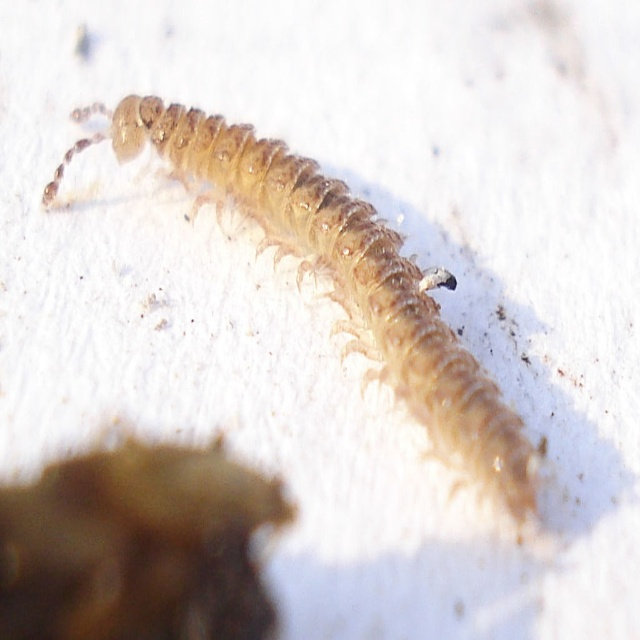Centipede: (42, 93, 553, 544)
